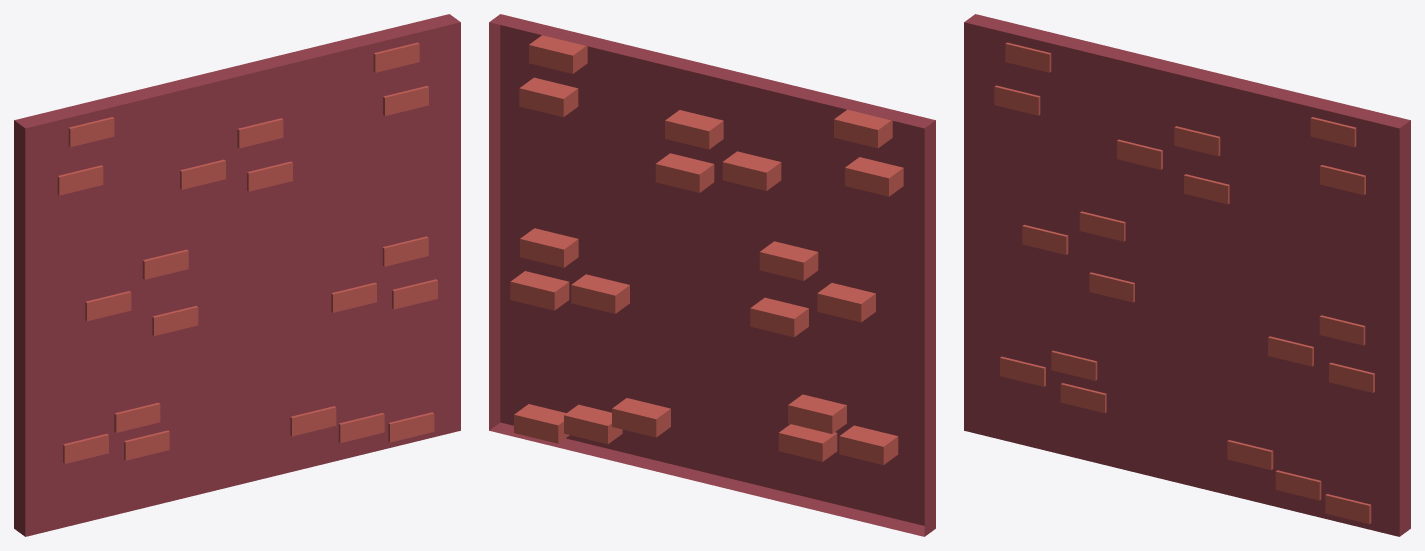
The model's file is Wall_Brick.FBX.
The picture shows the model from 3 angles, left to right: view 1: azimuth 30°, elevation 25°; view 2: azimuth 150°, elevation 25°; view 3: azimuth 330°, elevation 25°; orthographic projection.
Parts seen in each view (by area): view 1: Wall_Brick; view 2: Wall_Brick; view 3: Wall_Brick.
Part boxes in pixels (x1=…): Wall_Brick: x1=14, y1=14, x2=460, y2=536; Wall_Brick: x1=489, y1=14, x2=935, y2=536; Wall_Brick: x1=964, y1=14, x2=1410, y2=536.
Size of the model in its own units: 334 by 300 by 21.8.
